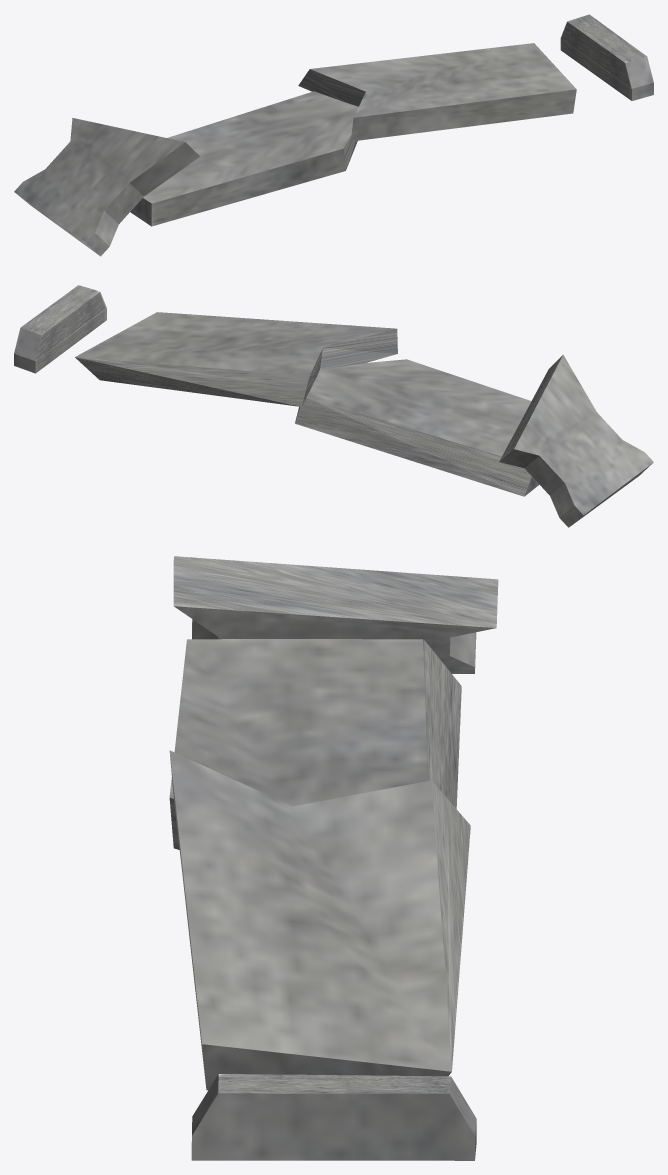
Rendered from BrokenBenchNew.obj.
3 renders of one model, top to bottom at view 1: azimuth 30°, elevation 25°; view 2: azimuth 150°, elevation 25°; view 3: azimuth 270°, elevation 25°, orthographic. The views are drawn at different scales.
Visible parts, largest first — view 1: default; view 2: default; view 3: default.
Part boxes in pixels (box(x1,y1,x2,y2)): default: box(14, 14, 653, 256); default: box(14, 285, 653, 527); default: box(169, 556, 498, 1160).
Bounding box in the file's own units: 4.12 × 0.6796 × 1.03.
